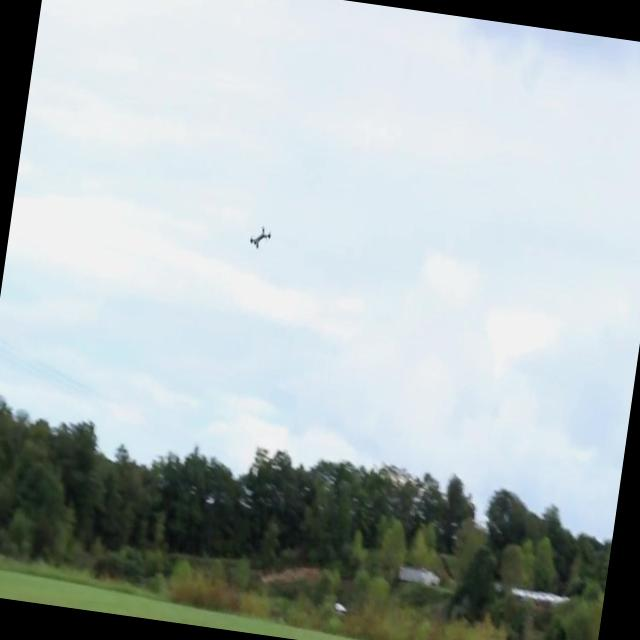drone: (246, 220, 273, 258)
